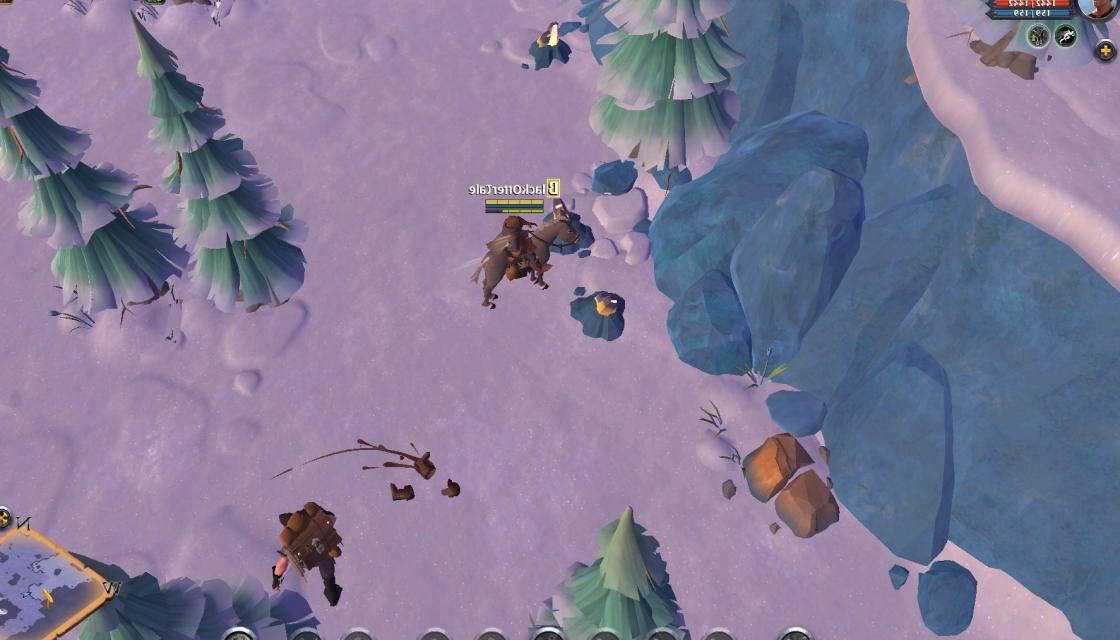copperore: (574, 282, 629, 342), (524, 19, 576, 67)
limestone: (748, 431, 849, 543)
